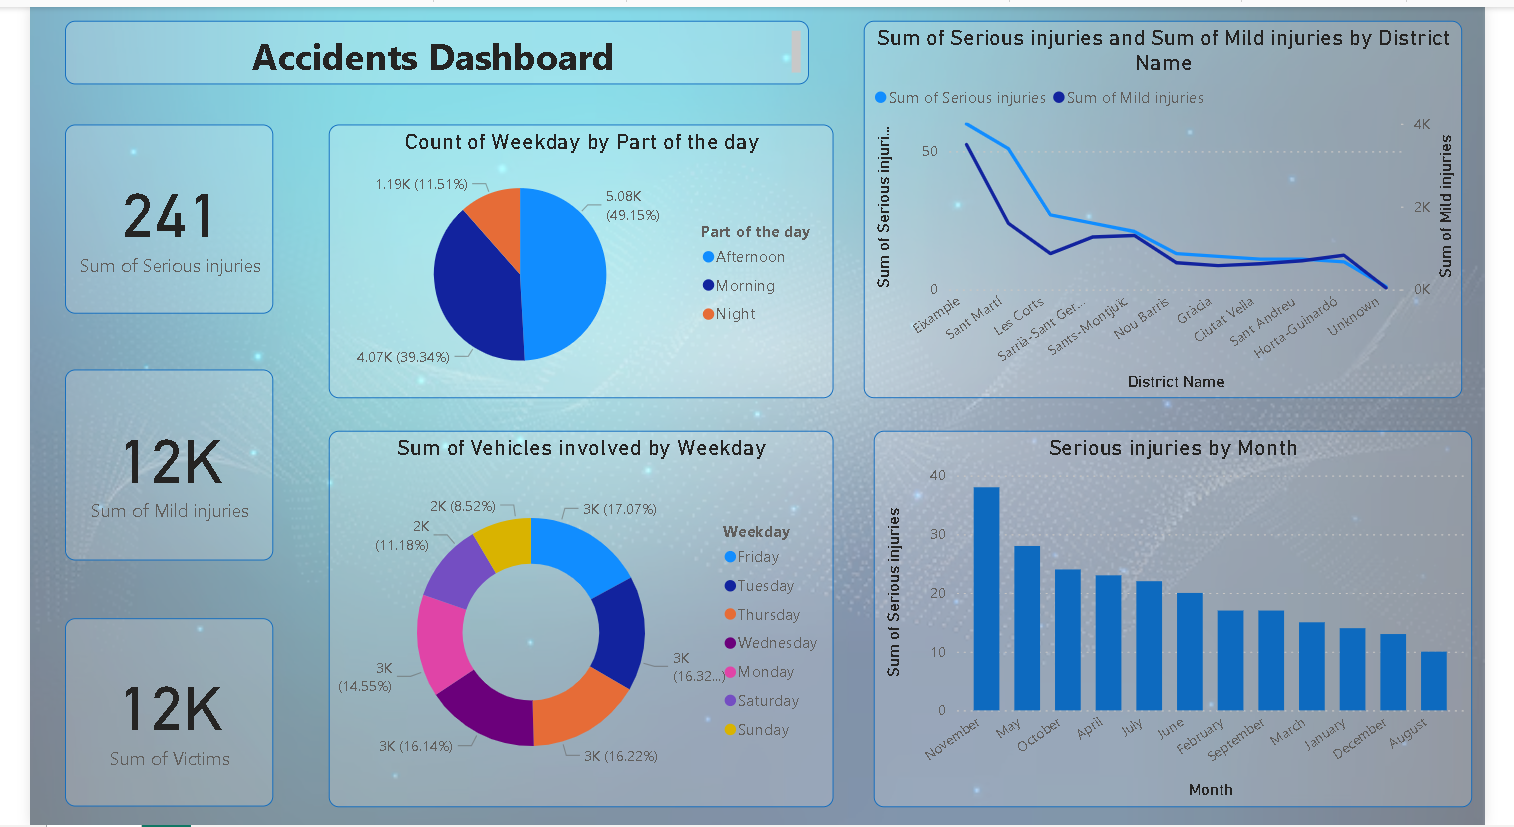

This screenshot's page, from the dashboard's own definition file:
{"tool":"powerbi","page":{"name":"Page 1","canvas":[1280,720],"ordinal":0},"visuals":[{"type":"donutChart","fields":{"Category":["accidents_2017.Weekday"],"Y":["Sum(accidents_2017.Vehicles involved)"]},"box":[263.1,372.6,444,331],"z":0},{"type":"lineChart","fields":{"Category":["accidents_2017.District Name"],"Y":["Sum(accidents_2017.Serious injuries)"],"Y2":["Sum(accidents_2017.Mild injuries)"]},"box":[733.3,11.9,526.2,332.1],"z":1000},{"type":"card","fields":{"Values":["Sum(accidents_2017.Mild injuries)"]},"box":[31,319,183.3,167.9],"z":2000},{"type":"card","fields":{"Values":["Sum(accidents_2017.Serious injuries)"]},"box":[31,103.6,183.3,166.7],"z":3000},{"type":"card","fields":{"Values":["Sum(accidents_2017.Victims)"]},"box":[31,538.1,183.3,165.5],"z":4000},{"type":"pieChart","fields":{"Y":["CountNonNull(accidents_2017.Weekday)"],"Series":["accidents_2017.Part of the day"]},"box":[263.1,103.6,444,240.5],"z":5000},{"type":"textbox","box":[31,11.9,654.8,56],"z":6000},{"type":"columnChart","title":"Serious injuries by Month","fields":{"Category":["accidents_2017.Month"],"Y":["Sum(accidents_2017.Serious injuries)"]},"box":[741.7,372.6,526.2,331],"z":7000}]}

Visuals, with their boxes in screenshot pixels (x1, y1, x2, y2), scaled from the page's 1280x720 canvas onto the 1514x827 screenshot:
donutChart - accidents_2017.Weekday x Sum(accidents_2017.Vehicles involved): 311 428 836 808
lineChart - accidents_2017.District Name x Sum(accidents_2017.Serious injuries): 867 14 1490 395
card - Sum(accidents_2017.Mild injuries): 37 366 253 559
card - Sum(accidents_2017.Serious injuries): 37 119 253 310
card - Sum(accidents_2017.Victims): 37 618 253 808
pieChart - CountNonNull(accidents_2017.Weekday) x accidents_2017.Part of the day: 311 119 836 395
textbox: 37 14 811 78
"Serious injuries by Month" columnChart: 877 428 1500 808
